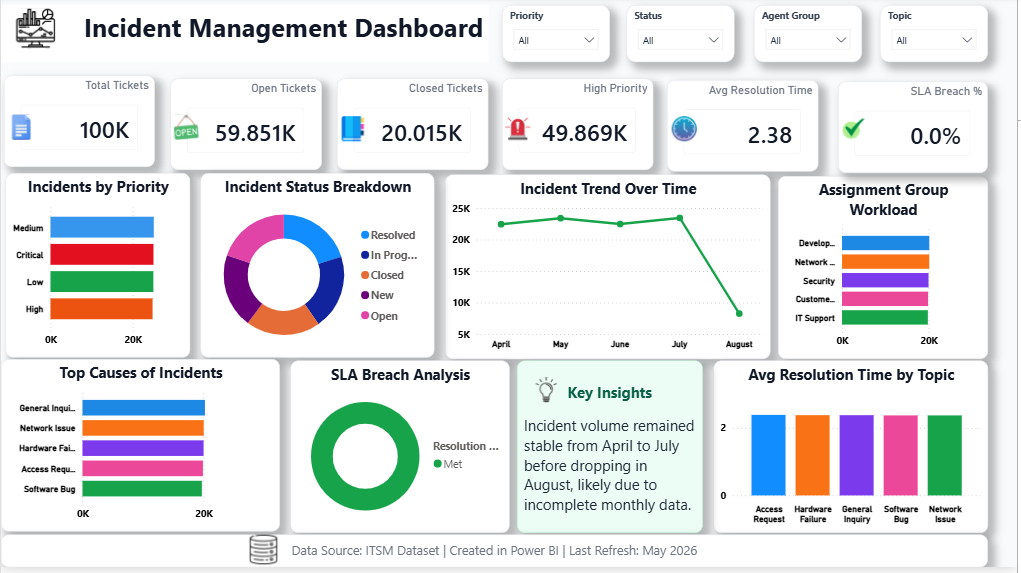

The dashboard page shown, as its layout file describes it:
{"tool":"powerbi","page":{"name":"Page 1","canvas":[1280,720],"ordinal":0},"visuals":[{"type":"cardVisual","title":"Total Tickets","fields":{"Data":["Count(ITSM_Dataset.Ticket ID)"]},"box":[3.8,100.2,190,115.3],"z":1000},{"type":"cardVisual","title":"Open Tickets","fields":{"Data":["Count(ITSM_Dataset.Ticket ID)"]},"box":[213.5,103.9,190.9,115.3],"z":2000},{"type":"cardVisual","title":"Closed Tickets","fields":{"Data":["Count(ITSM_Dataset.Ticket ID)"]},"box":[423.3,103.9,190.9,115.3],"z":3000},{"type":"cardVisual","title":"High Priority","fields":{"Data":["Count(ITSM_Dataset.Ticket ID)"]},"box":[631.2,103.9,190.9,115.3],"z":4000},{"type":"cardVisual","title":"Avg Resolution Time","fields":{"Data":["Avg(ITSM_Dataset.Resolution Duration Hours)"]},"box":[839.1,105.8,190.9,115.3],"z":5000},{"type":"lineChart","title":"Incident Trend Over Time","fields":{"Category":["ITSM_Dataset.Created Time.Variation.Date Hierarchy.Month"],"Y":["Count(ITSM_Dataset.Ticket ID)"]},"box":[559.4,224.9,410.1,232.4],"z":6000},{"type":"clusteredBarChart","title":"Incidents by Priority","fields":{"Y":["Count(ITSM_Dataset.Ticket ID)"],"Category":["ITSM_Dataset.Priority"]},"box":[5.7,223,232.4,232.4],"z":7000},{"type":"donutChart","title":"Incident Status Breakdown","fields":{"Y":["CountNonNull(ITSM_Dataset.Ticket ID)"],"Category":["ITSM_Dataset.Status"]},"box":[251.3,223,294.8,232.4],"z":8000},{"type":"clusteredBarChart","title":"Assignment Group Workload","fields":{"Y":["CountNonNull(ITSM_Dataset.Ticket ID)"],"Category":["ITSM_Dataset.Agent Group"]},"box":[978.9,226.8,264.6,230.6],"z":9000},{"type":"clusteredBarChart","title":"Top Causes of Incidents","fields":{"Y":["CountNonNull(ITSM_Dataset.Ticket ID)"],"Category":["ITSM_Dataset.Topic"]},"box":[0,457.3,351.5,217.3],"z":10000},{"type":"slicer","title":"Priority","fields":{"Values":["ITSM_Dataset.Priority"]},"box":[631.2,11.3,136.1,71.8],"z":11000},{"type":"slicer","title":"Status","fields":{"Values":["ITSM_Dataset.Status"]},"box":[788,11.3,136.1,71.8],"z":12000},{"type":"slicer","title":"Agent Group","fields":{"Values":["ITSM_Dataset.Agent Group"]},"box":[948.7,11.3,136.1,71.8],"z":13000},{"type":"slicer","title":"Topic","fields":{"Values":["ITSM_Dataset.Topic"]},"box":[1107.4,11.3,136.1,71.8],"z":14000},{"type":"donutChart","title":"SLA Breach Analysis","fields":{"Y":["Count(ITSM_Dataset.Ticket ID)"],"Category":["ITSM_Dataset.Resolution SLA Status"]},"box":[364.7,459.2,275.9,217.3],"z":15000},{"type":"cardVisual","title":"SLA Breach %","fields":{"Data":["ITSM_Dataset.SLA Breach %"]},"box":[1054.5,107.7,189,115.3],"z":16000},{"type":"clusteredColumnChart","title":"Avg Resolution Time by Topic","fields":{"Category":["ITSM_Dataset.Topic"],"Y":["Avg(ITSM_Dataset.Resolution Duration Hours)"]},"box":[897.6,459.2,345.8,217.3],"z":17000},{"type":"textbox","box":[650.1,459.2,234.3,217.3],"z":18000},{"type":"textbox","box":[0,11.3,614.2,71.8],"z":18001},{"type":"actionButton","box":[3.8,11.3,79.4,58.6],"z":18002},{"type":"textbox","box":[0,678.4,1243.5,41.6],"z":18003},{"type":"actionButton","box":[5.7,145.5,43.5,39.7],"z":18004},{"type":"actionButton","box":[423.3,147.4,43.5,39.7],"z":18005},{"type":"actionButton","box":[631.2,147.4,43.5,39.7],"z":18006},{"type":"actionButton","box":[841,147.4,43.5,39.7],"z":18007},{"type":"actionButton","box":[1054.5,147.4,43.5,39.7],"z":18008},{"type":"actionButton","box":[213.5,145.5,43.5,39.7],"z":18009},{"type":"actionButton","box":[667.1,476.2,60.5,39.7],"z":18010},{"type":"actionButton","box":[308,674.7,69.9,45.4],"z":18011}]}

Visuals, with their boxes in screenshot pixels (x1, y1, x2, y2), scaled from the page's 1280x720 canvas onto the 1021x573 screenshot:
"Total Tickets" cardVisual: x1=3 y1=80 x2=155 y2=172
"Open Tickets" cardVisual: x1=170 y1=83 x2=323 y2=174
"Closed Tickets" cardVisual: x1=338 y1=83 x2=490 y2=174
"High Priority" cardVisual: x1=503 y1=83 x2=656 y2=174
"Avg Resolution Time" cardVisual: x1=669 y1=84 x2=822 y2=176
"Incident Trend Over Time" lineChart: x1=446 y1=179 x2=773 y2=364
"Incidents by Priority" clusteredBarChart: x1=5 y1=177 x2=190 y2=362
"Incident Status Breakdown" donutChart: x1=200 y1=177 x2=436 y2=362
"Assignment Group Workload" clusteredBarChart: x1=781 y1=180 x2=992 y2=364
"Top Causes of Incidents" clusteredBarChart: x1=0 y1=364 x2=280 y2=537
"Priority" slicer: x1=503 y1=9 x2=612 y2=66
"Status" slicer: x1=629 y1=9 x2=737 y2=66
"Agent Group" slicer: x1=757 y1=9 x2=865 y2=66
"Topic" slicer: x1=883 y1=9 x2=992 y2=66
"SLA Breach Analysis" donutChart: x1=291 y1=365 x2=511 y2=538
"SLA Breach %" cardVisual: x1=841 y1=86 x2=992 y2=177
"Avg Resolution Time by Topic" clusteredColumnChart: x1=716 y1=365 x2=992 y2=538
textbox: x1=519 y1=365 x2=705 y2=538
textbox: x1=0 y1=9 x2=490 y2=66
actionButton: x1=3 y1=9 x2=66 y2=56
textbox: x1=0 y1=540 x2=992 y2=572
actionButton: x1=5 y1=116 x2=39 y2=147
actionButton: x1=338 y1=117 x2=372 y2=149
actionButton: x1=503 y1=117 x2=538 y2=149
actionButton: x1=671 y1=117 x2=706 y2=149
actionButton: x1=841 y1=117 x2=876 y2=149
actionButton: x1=170 y1=116 x2=205 y2=147
actionButton: x1=532 y1=379 x2=580 y2=411
actionButton: x1=246 y1=537 x2=301 y2=572
